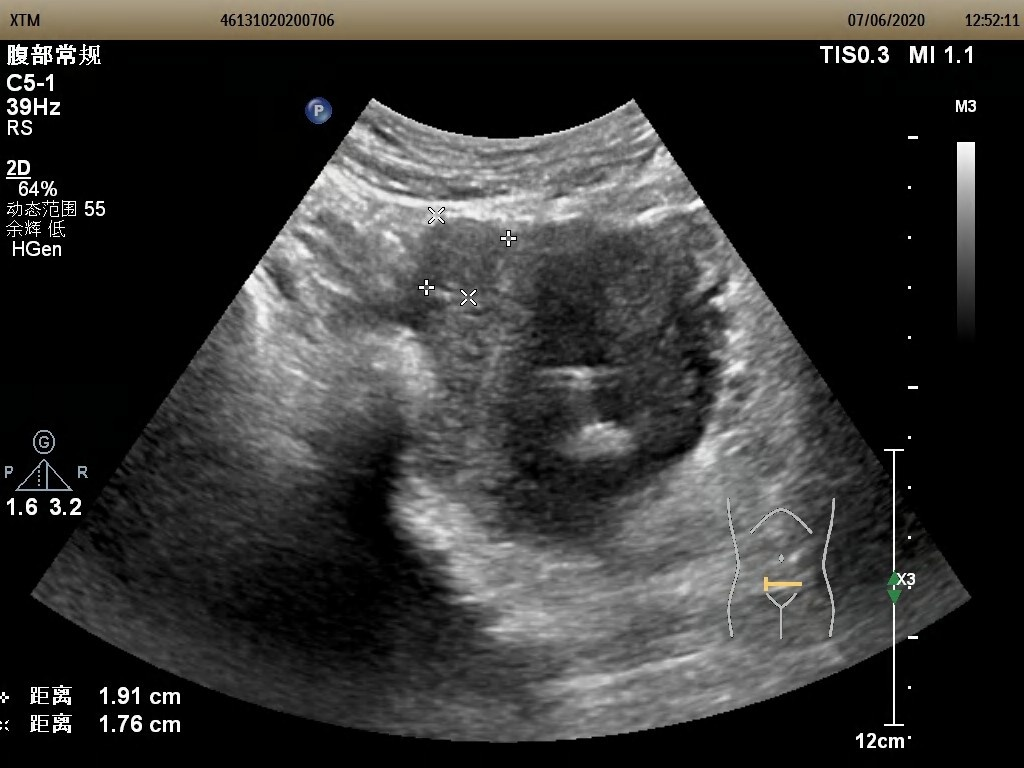肌瘤: (424, 222, 499, 291)
